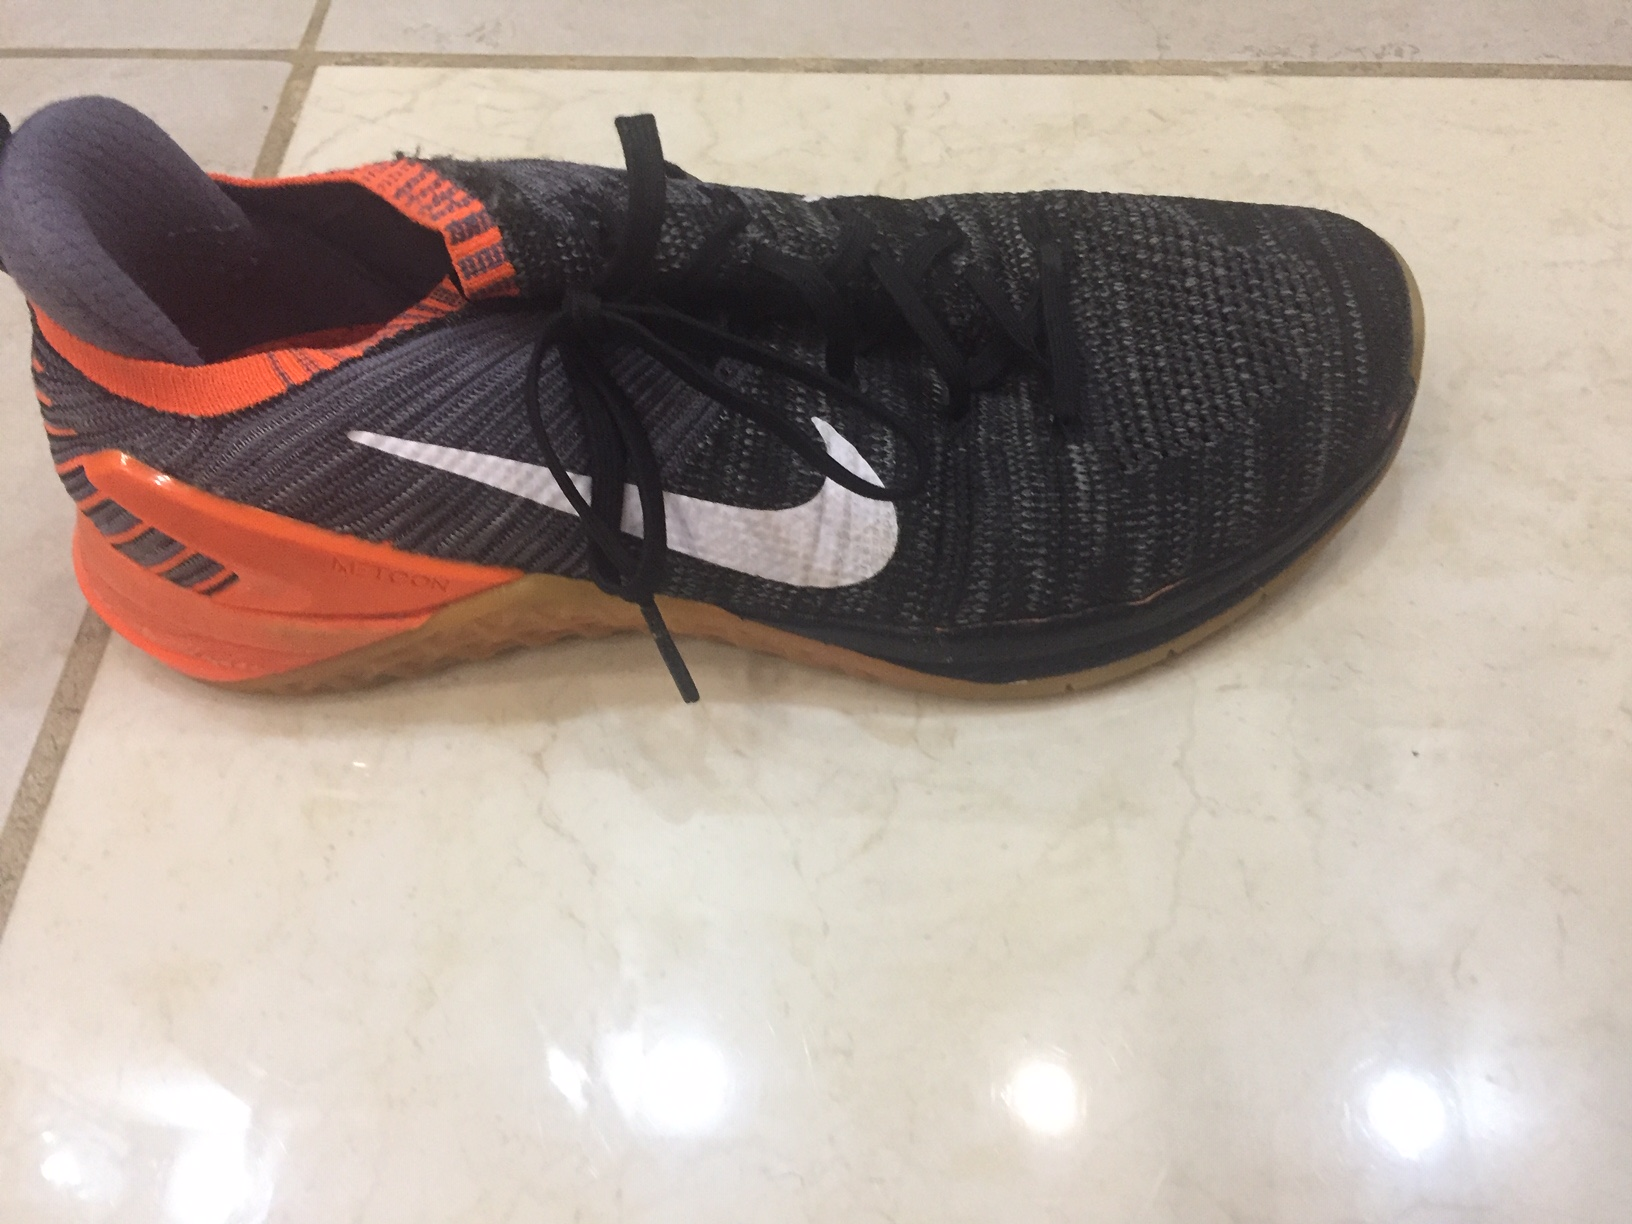car: (1, 69, 1447, 743)
